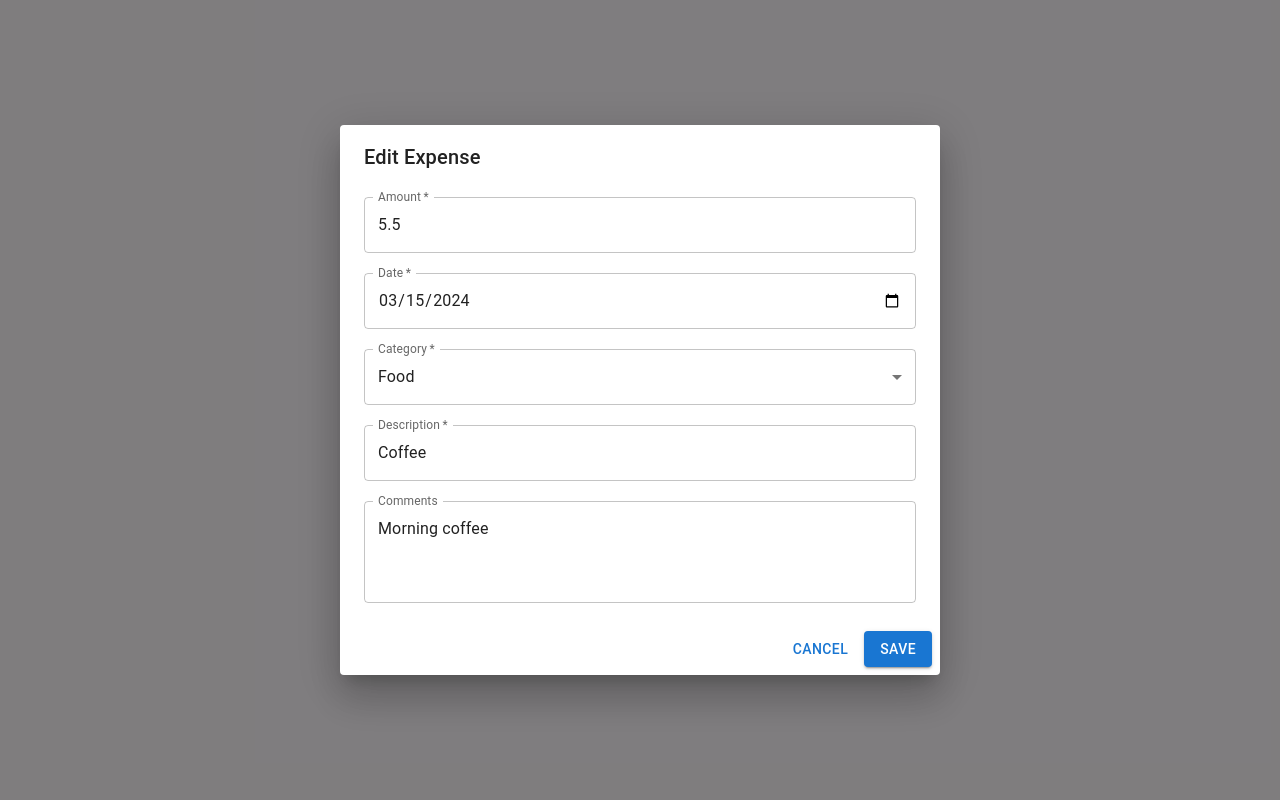
Scenario: EditExpenseDialog › should show validation error for negative amount
This screenshot has width=1280, height=800.
Replace the text in the number field labelled "Amount" with "-5" at (640, 225), box top-left (364, 197), bottom-right (916, 253)
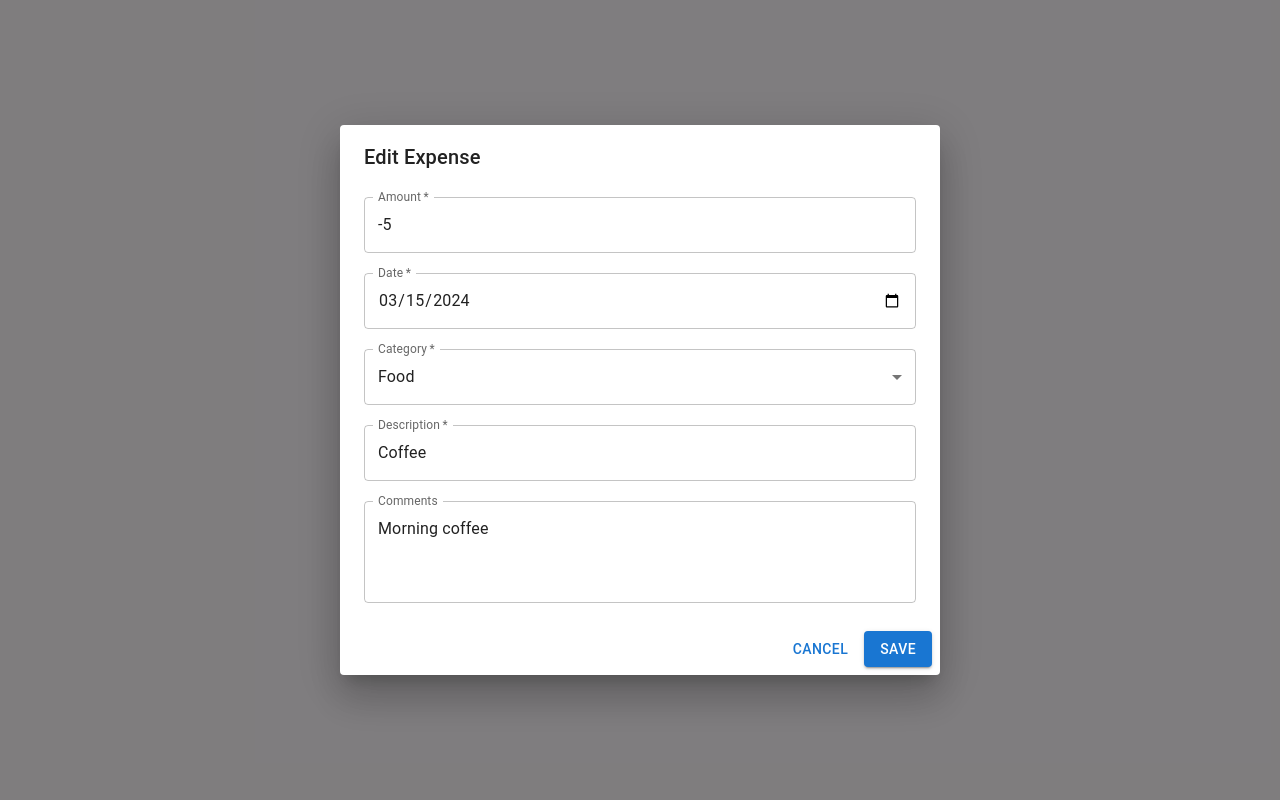
Click the button "Save".
click(898, 649)  # box top-left (864, 631), bottom-right (932, 667)
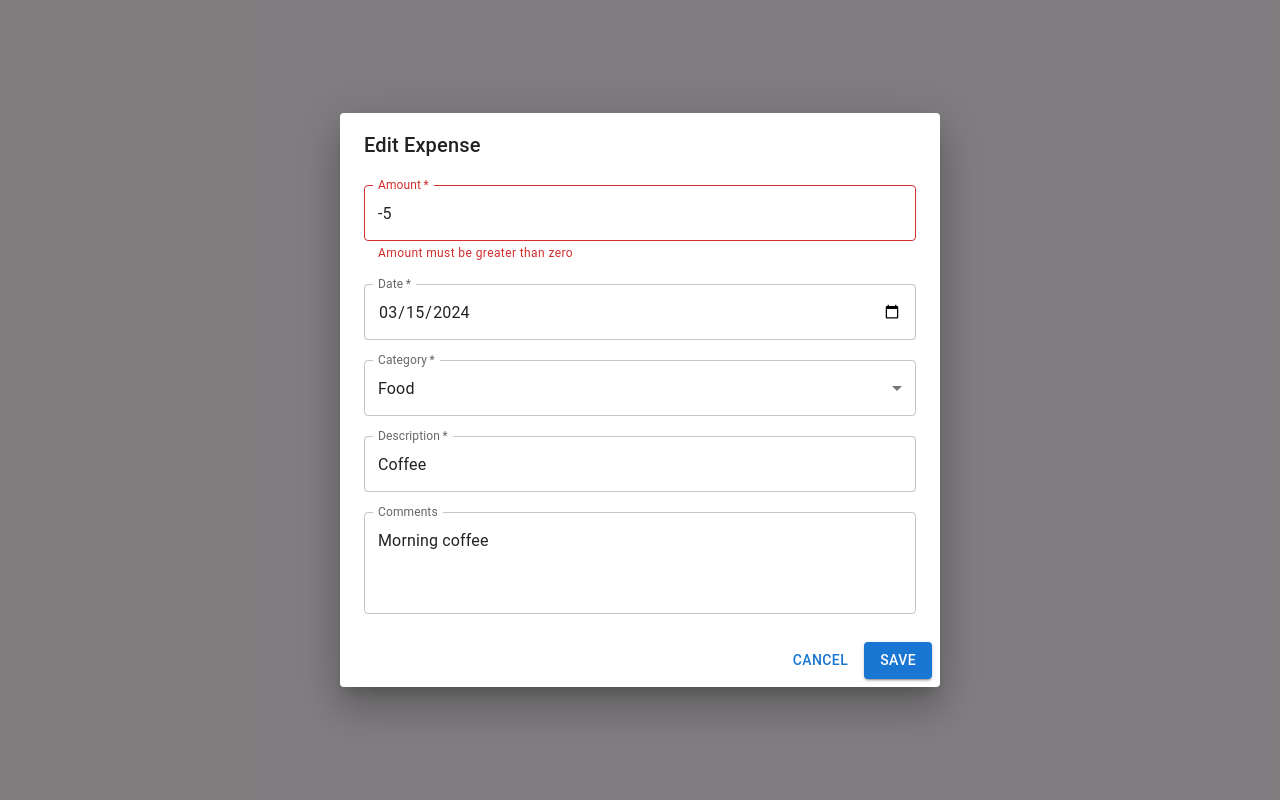
Now the text "Amount must be greater than zero" is shown, box top-left (378, 246), bottom-right (573, 260)
